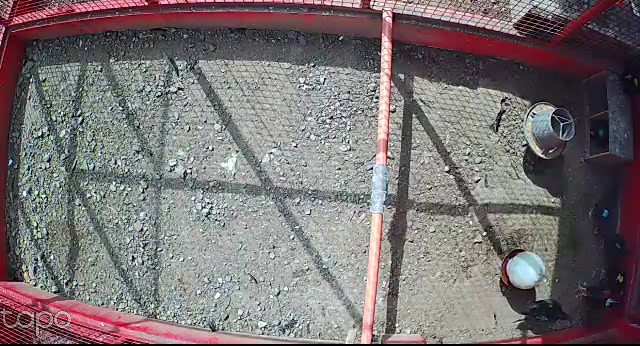Chicken: (586, 184, 623, 241), (519, 297, 573, 326)
Drinker: (498, 249, 547, 290)
Feeder: (524, 100, 577, 160)
Rooster: (576, 282, 627, 318)
Saddle_Color_Blue: (603, 210, 609, 219)
